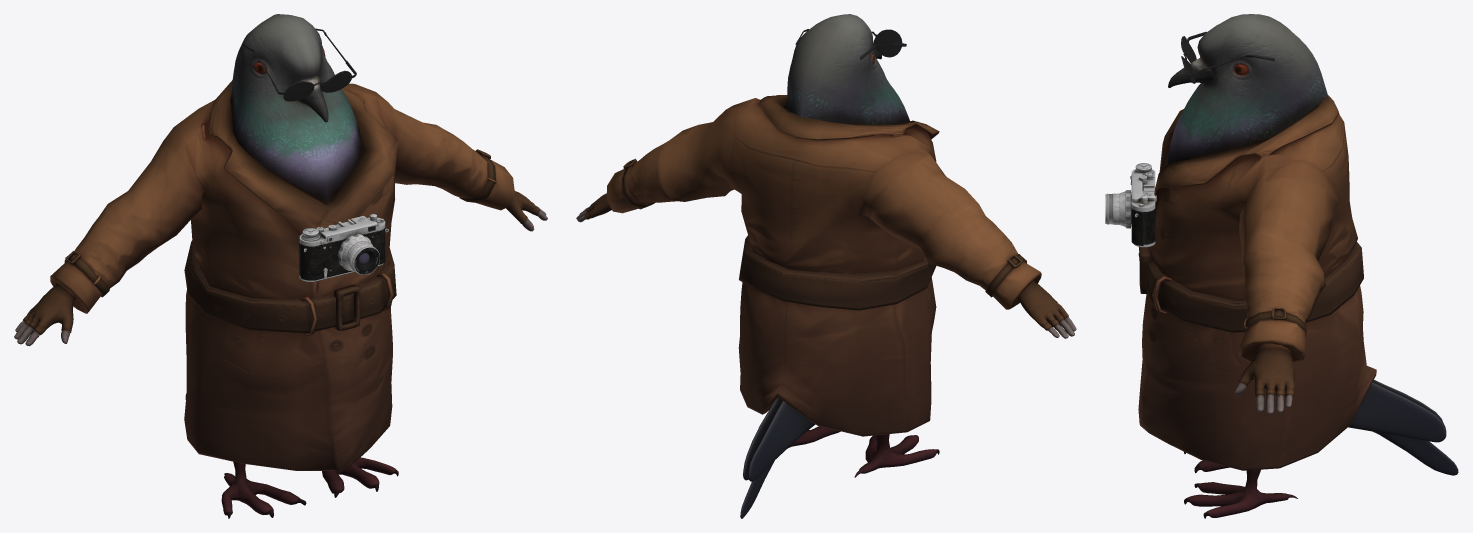
File: ShpioniroGolubiro.fbx
3 views of the same model, side by side, from view 1: azimuth 30°, elevation 25°; view 2: azimuth 150°, elevation 25°; view 3: azimuth 270°, elevation 25° (orthographic). The views are drawn at different scales.
Visible parts, largest first — view 1: Shioniri, Camera; view 2: Shioniri; view 3: Shioniri, Camera.
Part boxes in pixels (x1,y1,x2,y2): Shioniri: [14, 14, 547, 518]; Camera: [299, 214, 388, 281]; Shioniri: [576, 14, 1076, 518]; Shioniri: [1138, 14, 1458, 518]; Camera: [1105, 163, 1156, 247].
Size of the model in its own units: 173 by 146 by 101.
